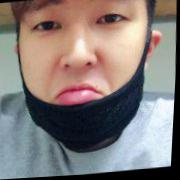WRONG: (16, 1, 155, 143)
